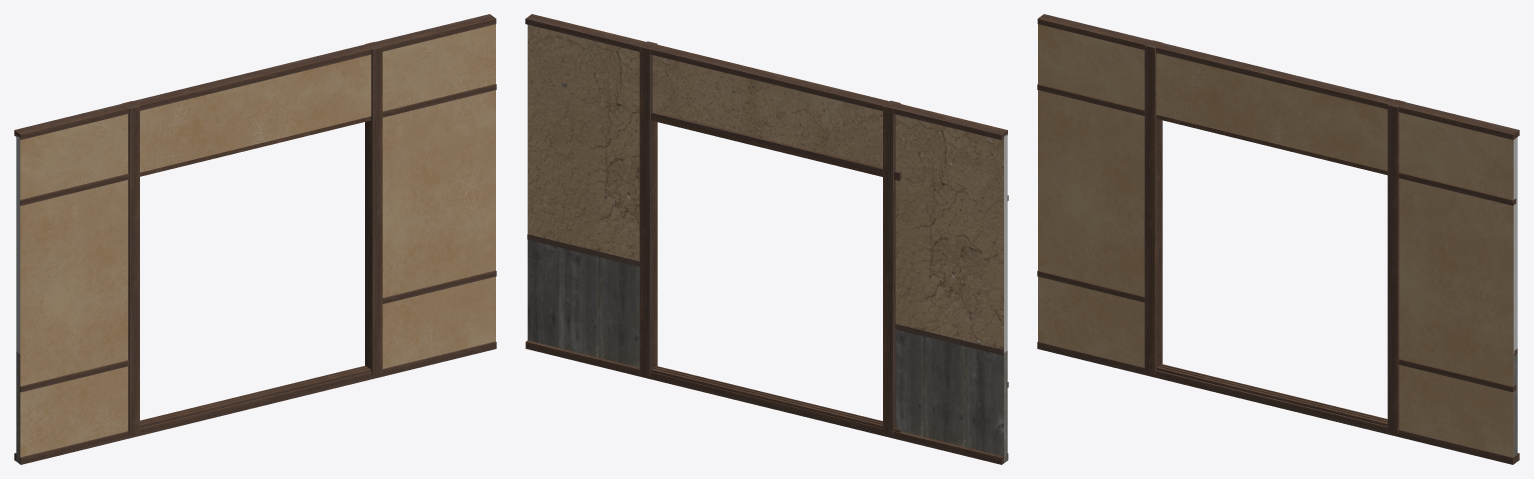
Rendered from jov_outwall02_2t_to_b1.fbx.
3 renders of one model, left to right at view 1: azimuth 30°, elevation 25°; view 2: azimuth 150°, elevation 25°; view 3: azimuth 330°, elevation 25°, orthographic.
Parts seen in each view (by area): view 1: jov_outwall02_2t_to_b1; view 2: jov_outwall02_2t_to_b1; view 3: jov_outwall02_2t_to_b1.
Boxes of the visible parts, x1,y1,x2,y2 form: jov_outwall02_2t_to_b1: (14, 14, 496, 464); jov_outwall02_2t_to_b1: (525, 14, 1008, 464); jov_outwall02_2t_to_b1: (1037, 14, 1519, 464).
Bounding box in the file's own units: 440 × 292 × 12.44.
